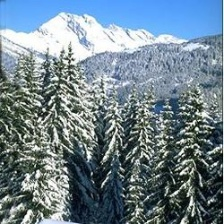neutral: (2, 1, 220, 224)
